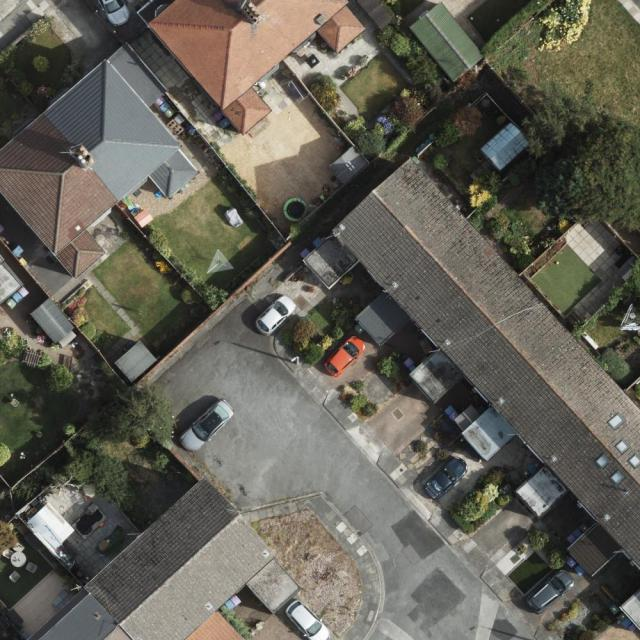roof: (304, 150, 640, 577), (0, 39, 202, 278), (25, 475, 304, 640), (144, 0, 366, 136)
skylight: (605, 411, 626, 433), (609, 467, 629, 489), (594, 452, 610, 471), (615, 436, 631, 455), (627, 450, 640, 471)
